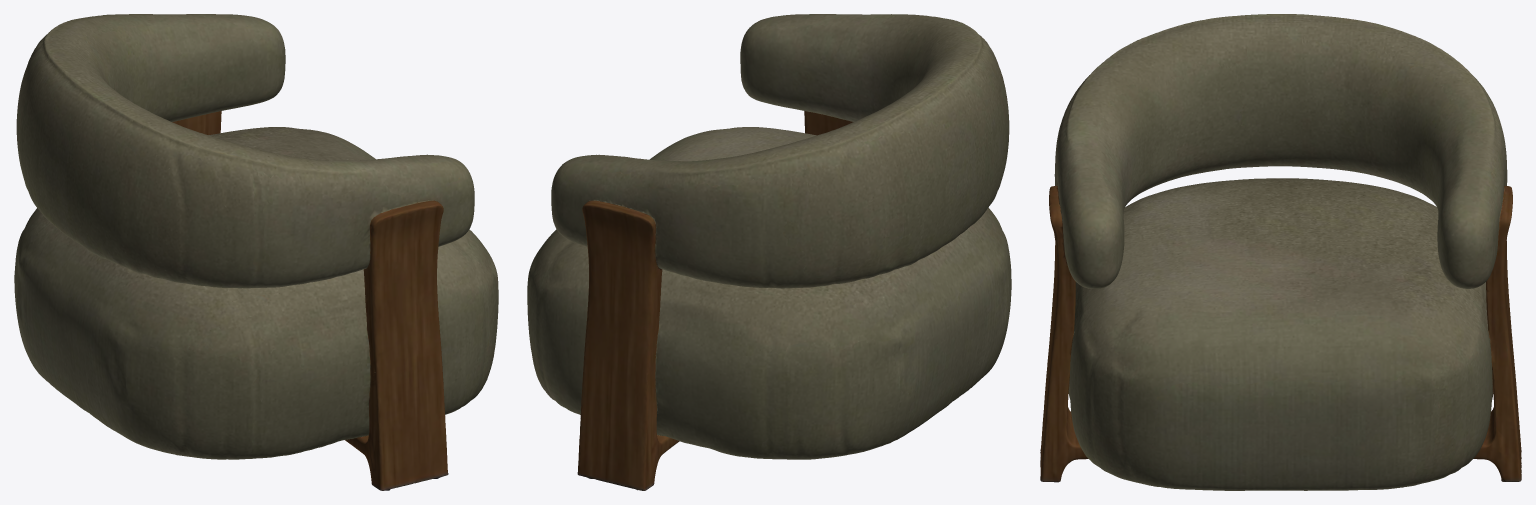
Rendered from chair_fast.glb.
3 views of the same model, side by side, from view 1: azimuth 30°, elevation 25°; view 2: azimuth 150°, elevation 25°; view 3: azimuth 270°, elevation 25° (orthographic).
Visible parts, largest first — view 1: geometry_0; view 2: geometry_0; view 3: geometry_0.
Boxes of the visible parts, x1,y1,x2,y2 form: geometry_0: [14, 14, 498, 490]; geometry_0: [527, 14, 1011, 490]; geometry_0: [1040, 14, 1521, 490].
Bounding box in the file's own units: 0.8947 × 0.8121 × 1.
Materials: 1 (1 with a texture image).
